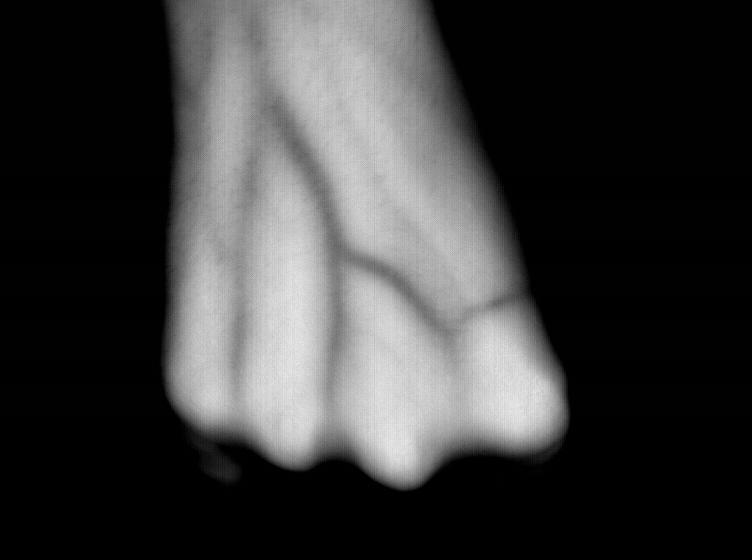Vein: (233, 101, 445, 357)
